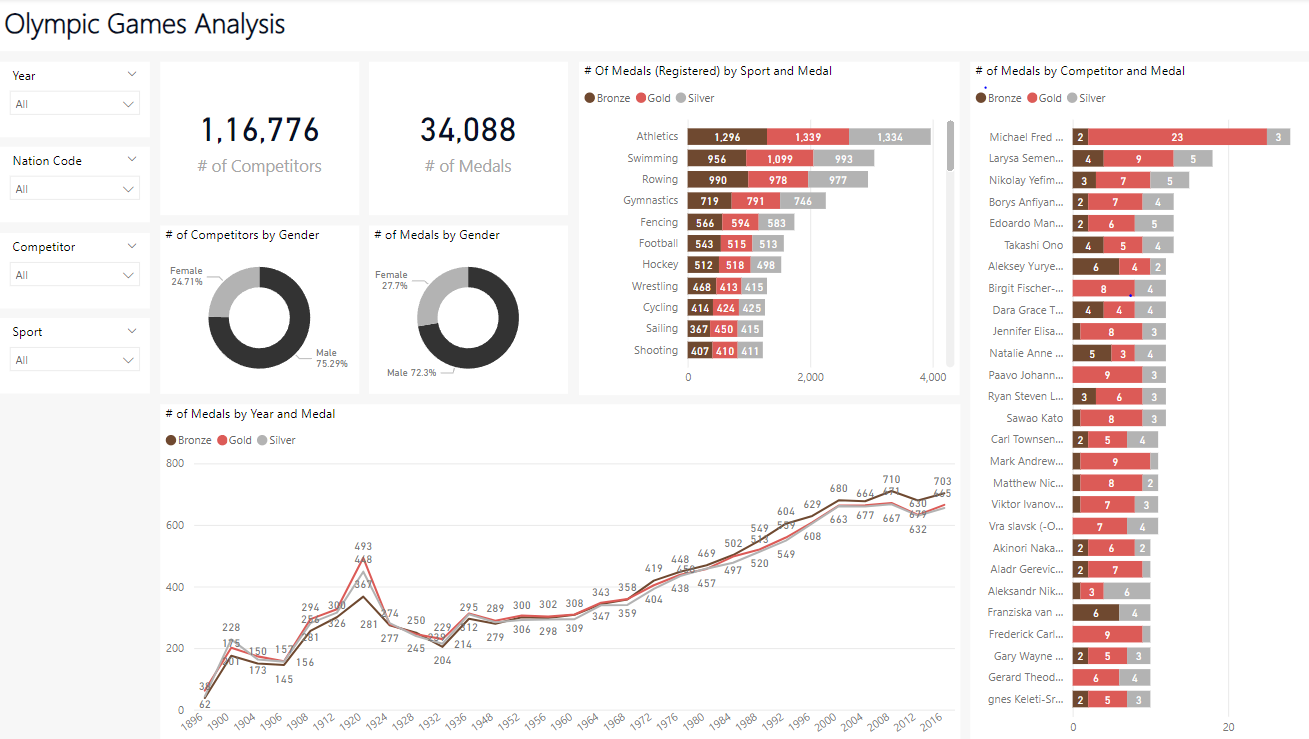

This screenshot's page, from the dashboard's own definition file:
{"tool":"powerbi","page":{"name":"Olympic Games Analysis","canvas":[1280,720],"ordinal":0},"visuals":[{"type":"textbox","box":[0,0,1280,51.9],"z":0},{"type":"slicer","fields":{"Values":["Olympic Data.Year"]},"box":[0,61.3,145.9,72.9],"z":1000},{"type":"slicer","fields":{"Values":["Olympic Data.Nation Code"]},"box":[0,144,145.9,72.9],"z":2000},{"type":"slicer","fields":{"Values":["Olympic Data.Competitor Name"]},"box":[0,226.6,145.9,72.9],"z":3000},{"type":"slicer","fields":{"Values":["Olympic Data.Sport"]},"box":[0,309.3,145.9,72.9],"z":4000},{"type":"card","fields":{"Values":["Olympic Data.Number of Competitors"]},"box":[155.6,61.5,189.4,95.3],"z":5000},{"type":"card","fields":{"Values":["Calculations.# Of Medals (Registered)"]},"box":[357.1,61.5,191.8,95.3],"z":6000},{"type":"donutChart","fields":{"Y":["Olympic Data.Number of Competitors"],"Category":["Olympic Data.Sex"]},"box":[155.6,168.9,189.4,213.5],"z":7000},{"type":"donutChart","fields":{"Y":["Calculations.# Of Medals (Registered)"],"Category":["Olympic Data.Sex"]},"box":[357.1,168.9,191.8,213.5],"z":8000},{"type":"lineChart","fields":{"Category":["Olympic Data.Year"],"Series":["Olympic Data.Medal"],"Y":["Calculations.# Of Medals (Registered)"]},"box":[0,392.1,892.8,328.2],"z":9000},{"type":"barChart","fields":{"Category":["Olympic Data.Sport"],"Series":["Olympic Data.Medal"],"Y":["Calculations.# Of Medals (Registered)"]},"box":[559.8,61.5,333,320.9],"z":10000},{"type":"barChart","fields":{"Category":["Olympic Data.Competitor Name"],"Series":["Olympic Data.Medal"],"Y":["Calculations.# Of Medals (Registered)"]},"box":[904.8,61.5,375.2,658.7],"z":11000}]}

Visuals, with their boxes in screenshot pixels (x1, y1, x2, y2), scaled from the page's 1280x720 canvas onto the 1309x739 screenshot:
textbox: pyautogui.locateOnScreen(0, 0, 1308, 53)
slicer - Olympic Data.Year: pyautogui.locateOnScreen(0, 63, 149, 138)
slicer - Olympic Data.Nation Code: pyautogui.locateOnScreen(0, 148, 149, 223)
slicer - Olympic Data.Competitor Name: pyautogui.locateOnScreen(0, 233, 149, 307)
slicer - Olympic Data.Sport: pyautogui.locateOnScreen(0, 317, 149, 392)
card - Olympic Data.Number of Competitors: pyautogui.locateOnScreen(159, 63, 353, 161)
card - Calculations.# Of Medals (Registered): pyautogui.locateOnScreen(365, 63, 561, 161)
donutChart - Olympic Data.Number of Competitors x Olympic Data.Sex: pyautogui.locateOnScreen(159, 173, 353, 392)
donutChart - Calculations.# Of Medals (Registered) x Olympic Data.Sex: pyautogui.locateOnScreen(365, 173, 561, 392)
lineChart - Olympic Data.Year x Olympic Data.Medal: pyautogui.locateOnScreen(0, 402, 913, 738)
barChart - Olympic Data.Sport x Olympic Data.Medal: pyautogui.locateOnScreen(572, 63, 913, 392)
barChart - Olympic Data.Competitor Name x Olympic Data.Medal: pyautogui.locateOnScreen(925, 63, 1308, 738)
